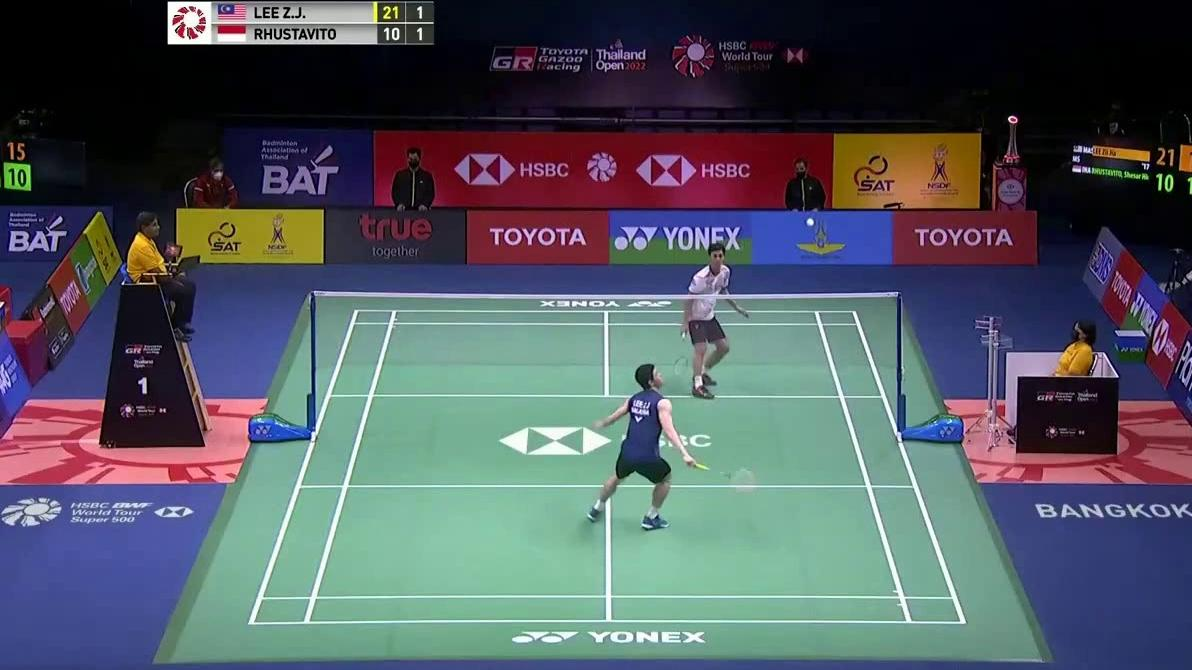racket: (685, 458, 757, 492), (673, 327, 687, 376)
shuttle: (806, 217, 814, 227)
